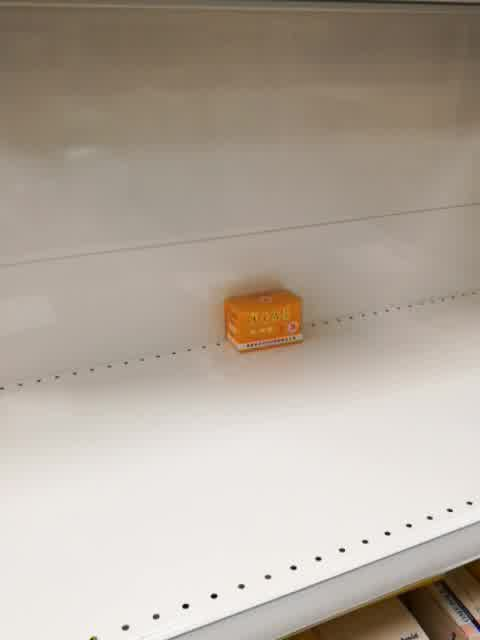jasminetea: (224, 290, 304, 354)
